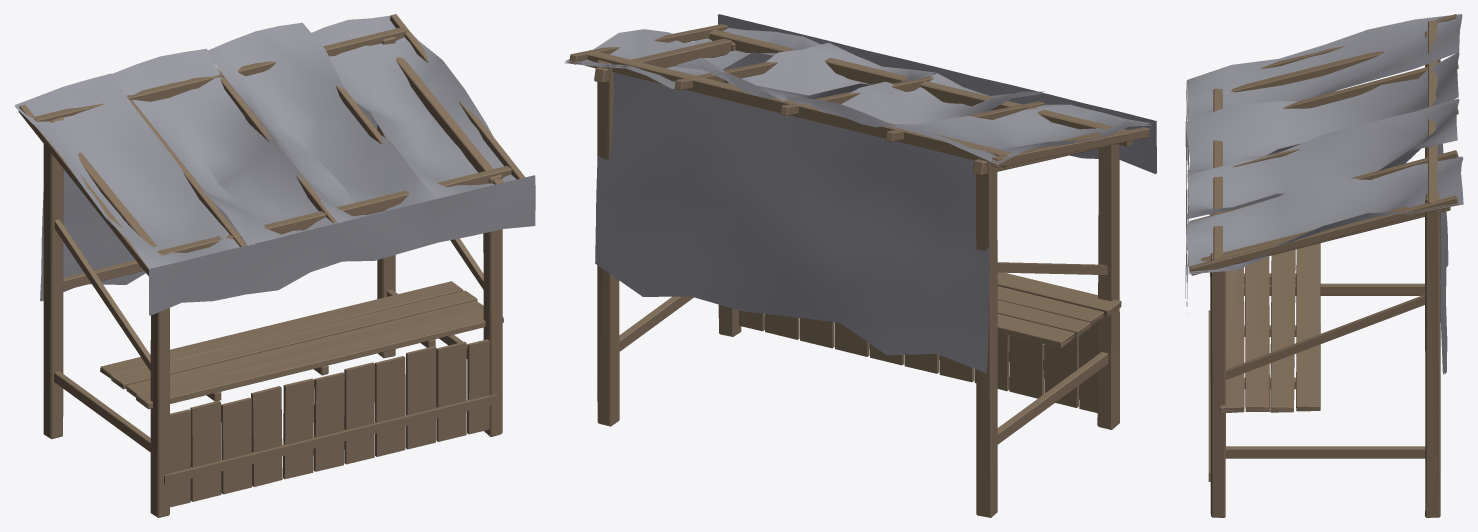
Rendered from stall.glb.
The picture shows the model from 3 angles, left to right: view 1: azimuth 30°, elevation 25°; view 2: azimuth 150°, elevation 25°; view 3: azimuth 270°, elevation 25°; orthographic projection. The views are drawn at different scales.
Parts seen in each view (by area): view 1: cloth, wood; view 2: cloth, wood; view 3: cloth, wood.
Boxes of the visible parts, x1=… form: cloth: x1=15, y1=15, x2=535, y2=315; wood: x1=18, y1=14, x2=524, y2=517; cloth: x1=565, y1=14, x2=1156, y2=372; wood: x1=569, y1=24, x2=1149, y2=517; cloth: x1=1185, y1=14, x2=1463, y2=374; wood: x1=1189, y1=14, x2=1458, y2=517.
Bounding box in the file's own units: 3.24 × 2.77 × 2.02.
